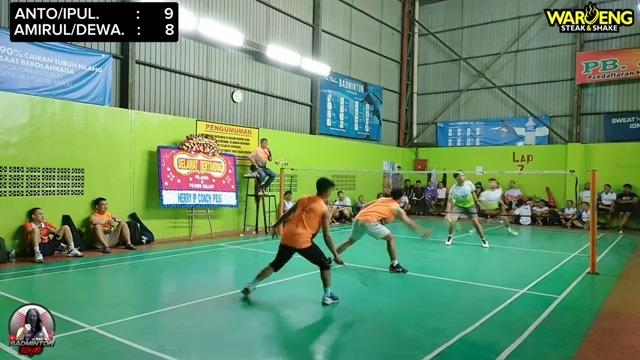Shuttlecock: (514, 138, 528, 148)
